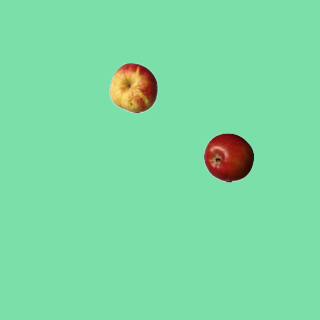Apple Braeburn: (203, 132, 253, 182)
Apple Red Yellow 1: (108, 62, 158, 112)
